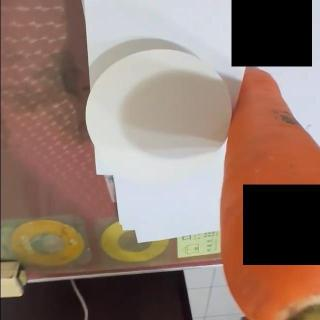carrot: (218, 67, 319, 320)
